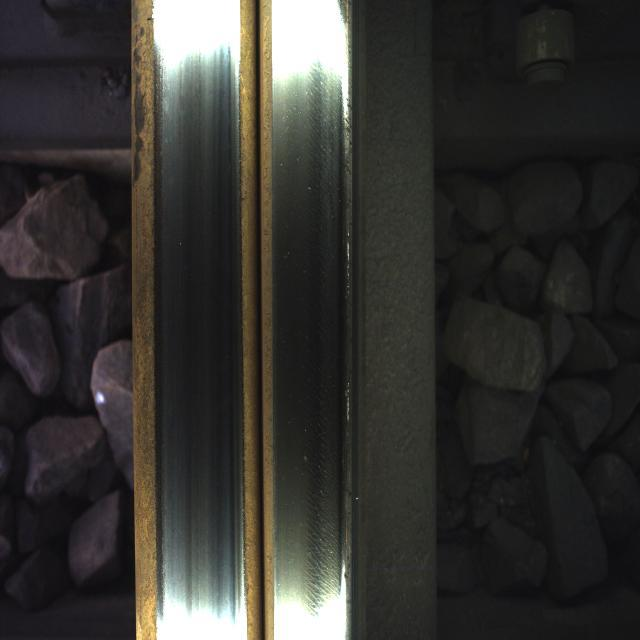break: (156, 24, 230, 608), (274, 43, 340, 606)
